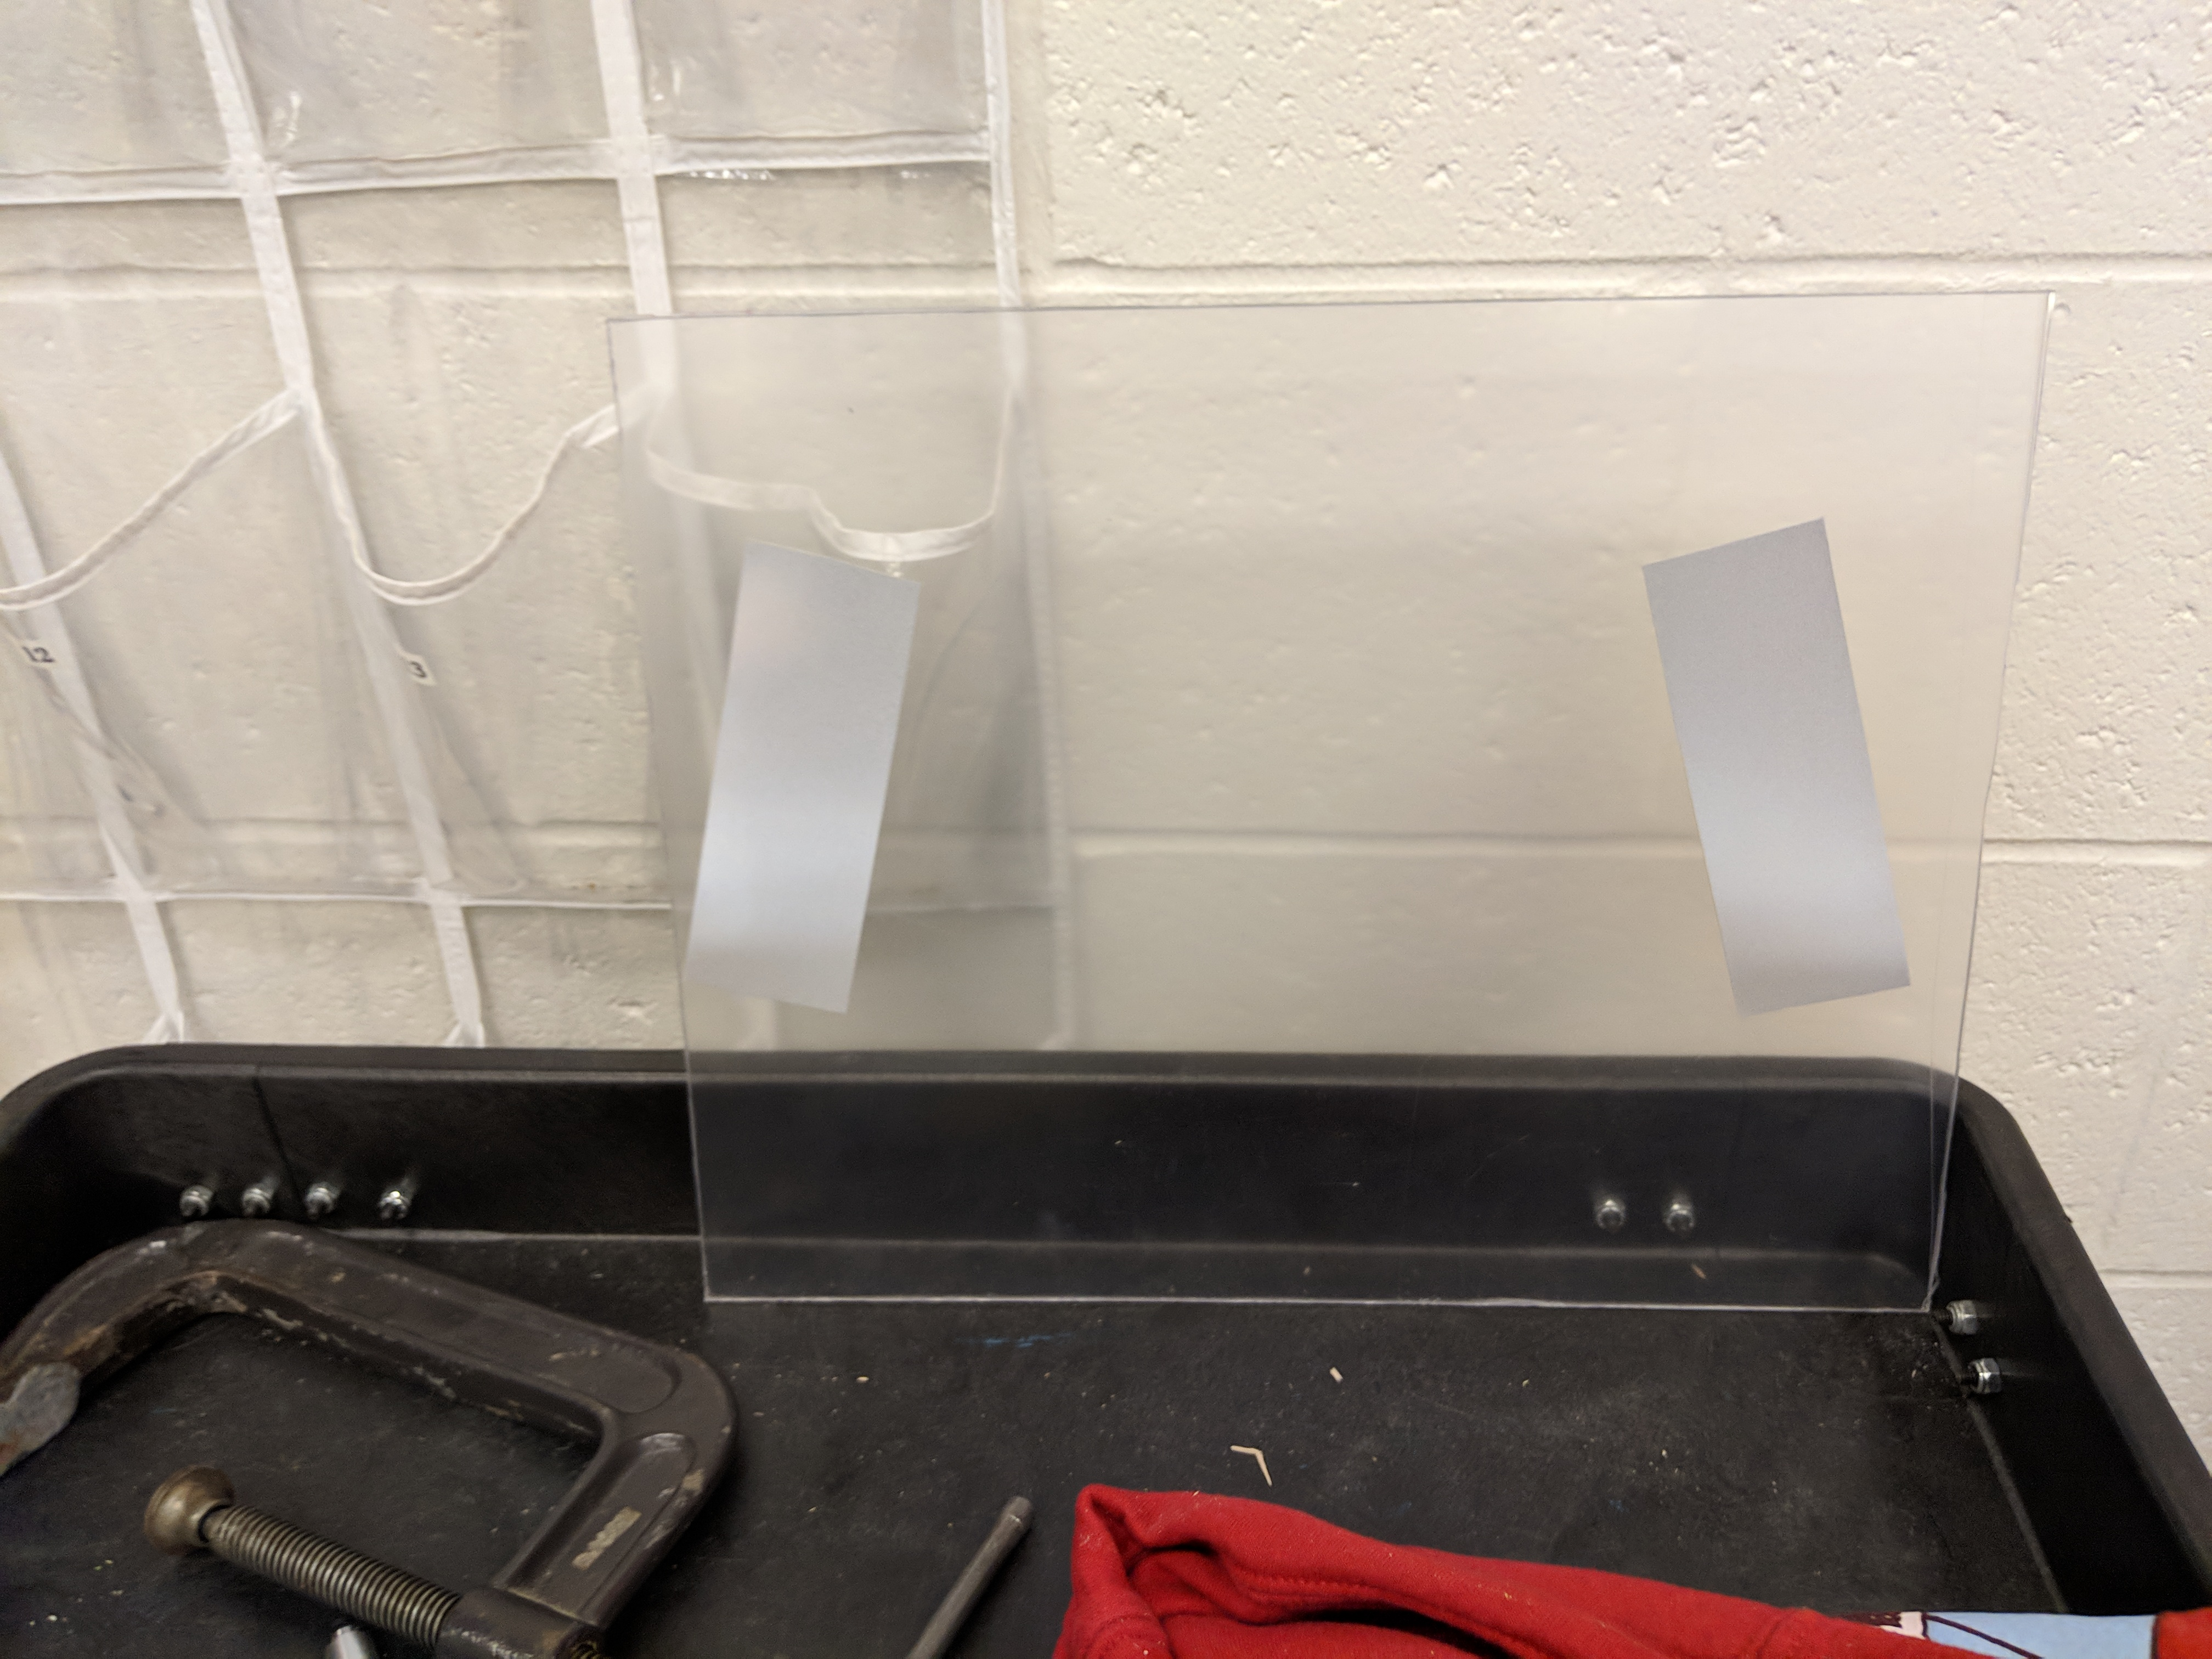vision_target: (678, 507, 1946, 1025)
